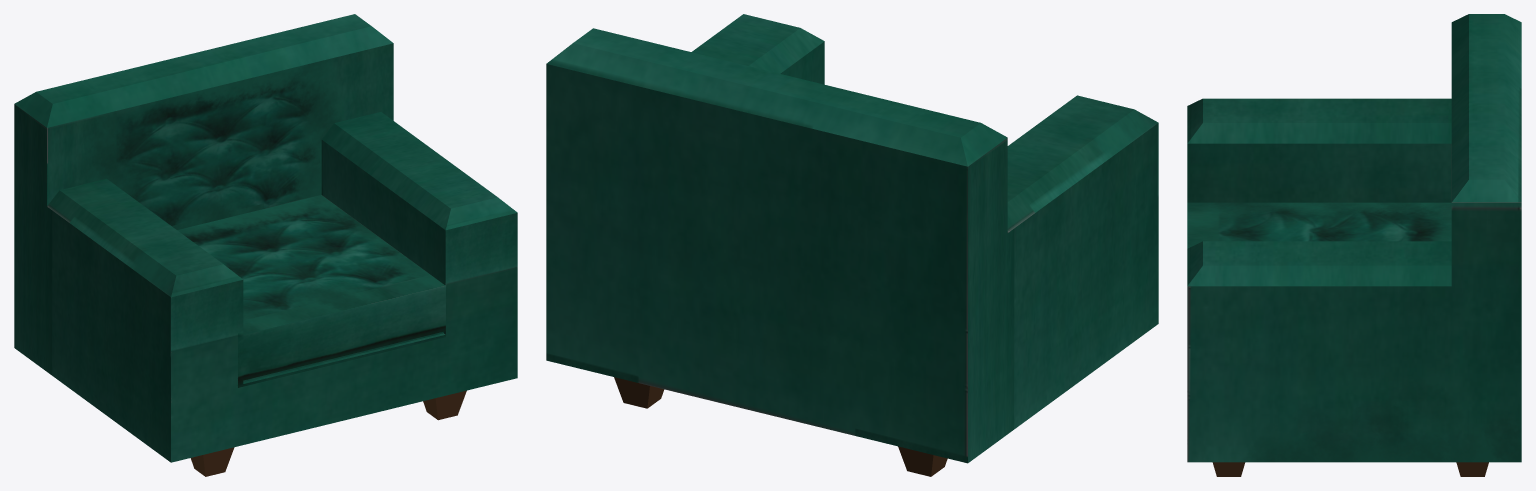
Rendered from fotel.glb.
The picture shows the model from 3 angles, left to right: view 1: azimuth 30°, elevation 25°; view 2: azimuth 150°, elevation 25°; view 3: azimuth 270°, elevation 25°; orthographic projection. The views are drawn at different scales.
Visible parts, largest first — view 1: Cube.037; view 2: Cube.037; view 3: Cube.037.
Part boxes in pixels (x1,y1,x2,y2): Cube.037: (14, 14, 517, 476); Cube.037: (546, 14, 1158, 476); Cube.037: (1187, 14, 1521, 476).
Bounding box in the file's own units: 3.23 × 2.62 × 2.53.
Materials: 1 (1 with a texture image).
